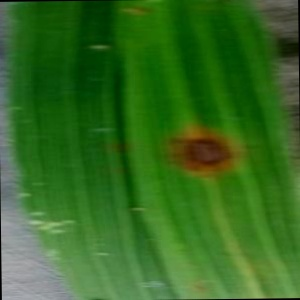Bacterial_Leaf_Blight: (162, 125, 241, 182)
